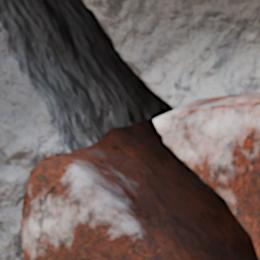broken_brick: (155, 91, 259, 255), (20, 152, 161, 259)
crack: (0, 0, 259, 259)
